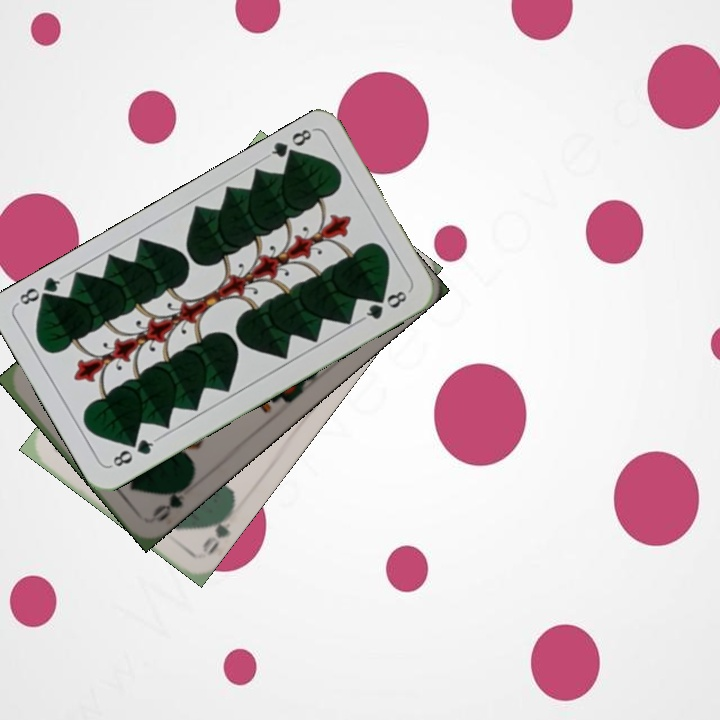G8: (262, 124, 316, 165), (106, 434, 160, 470)
GO: (148, 475, 195, 525), (198, 504, 236, 558)
